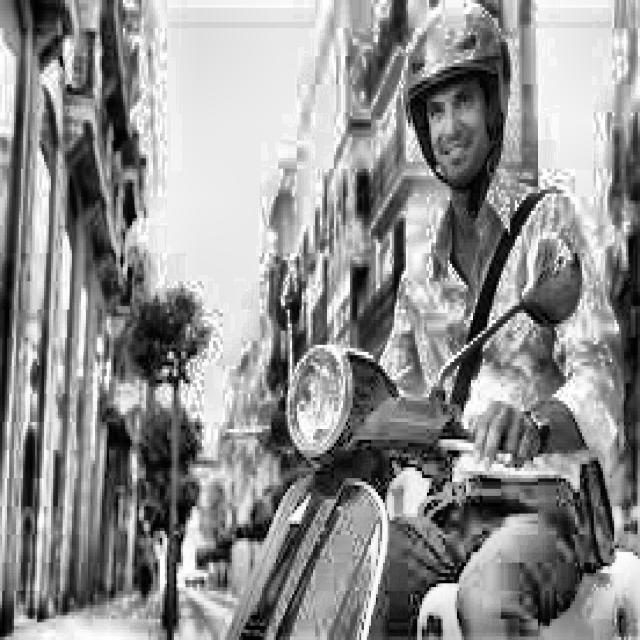Helmet: (397, 0, 514, 241)
